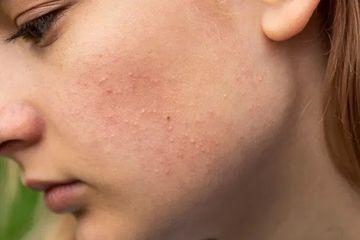Dry-Skin: (196, 0, 253, 41), (25, 100, 79, 138), (81, 75, 126, 113)
